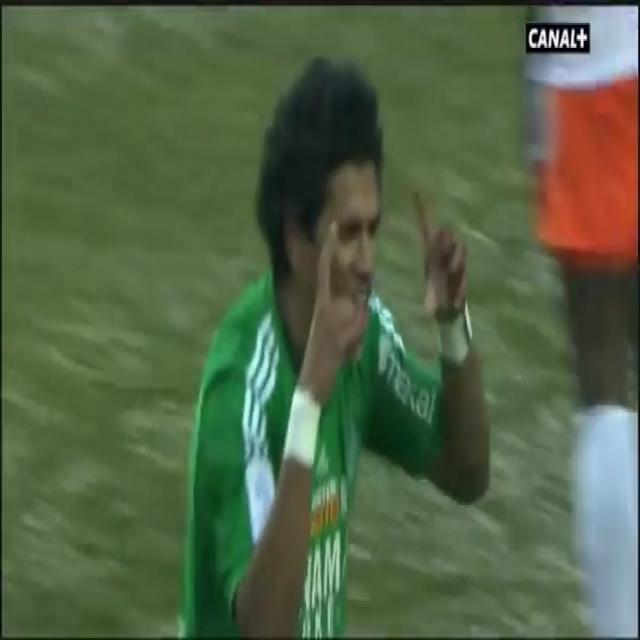player: (147, 24, 527, 626)
